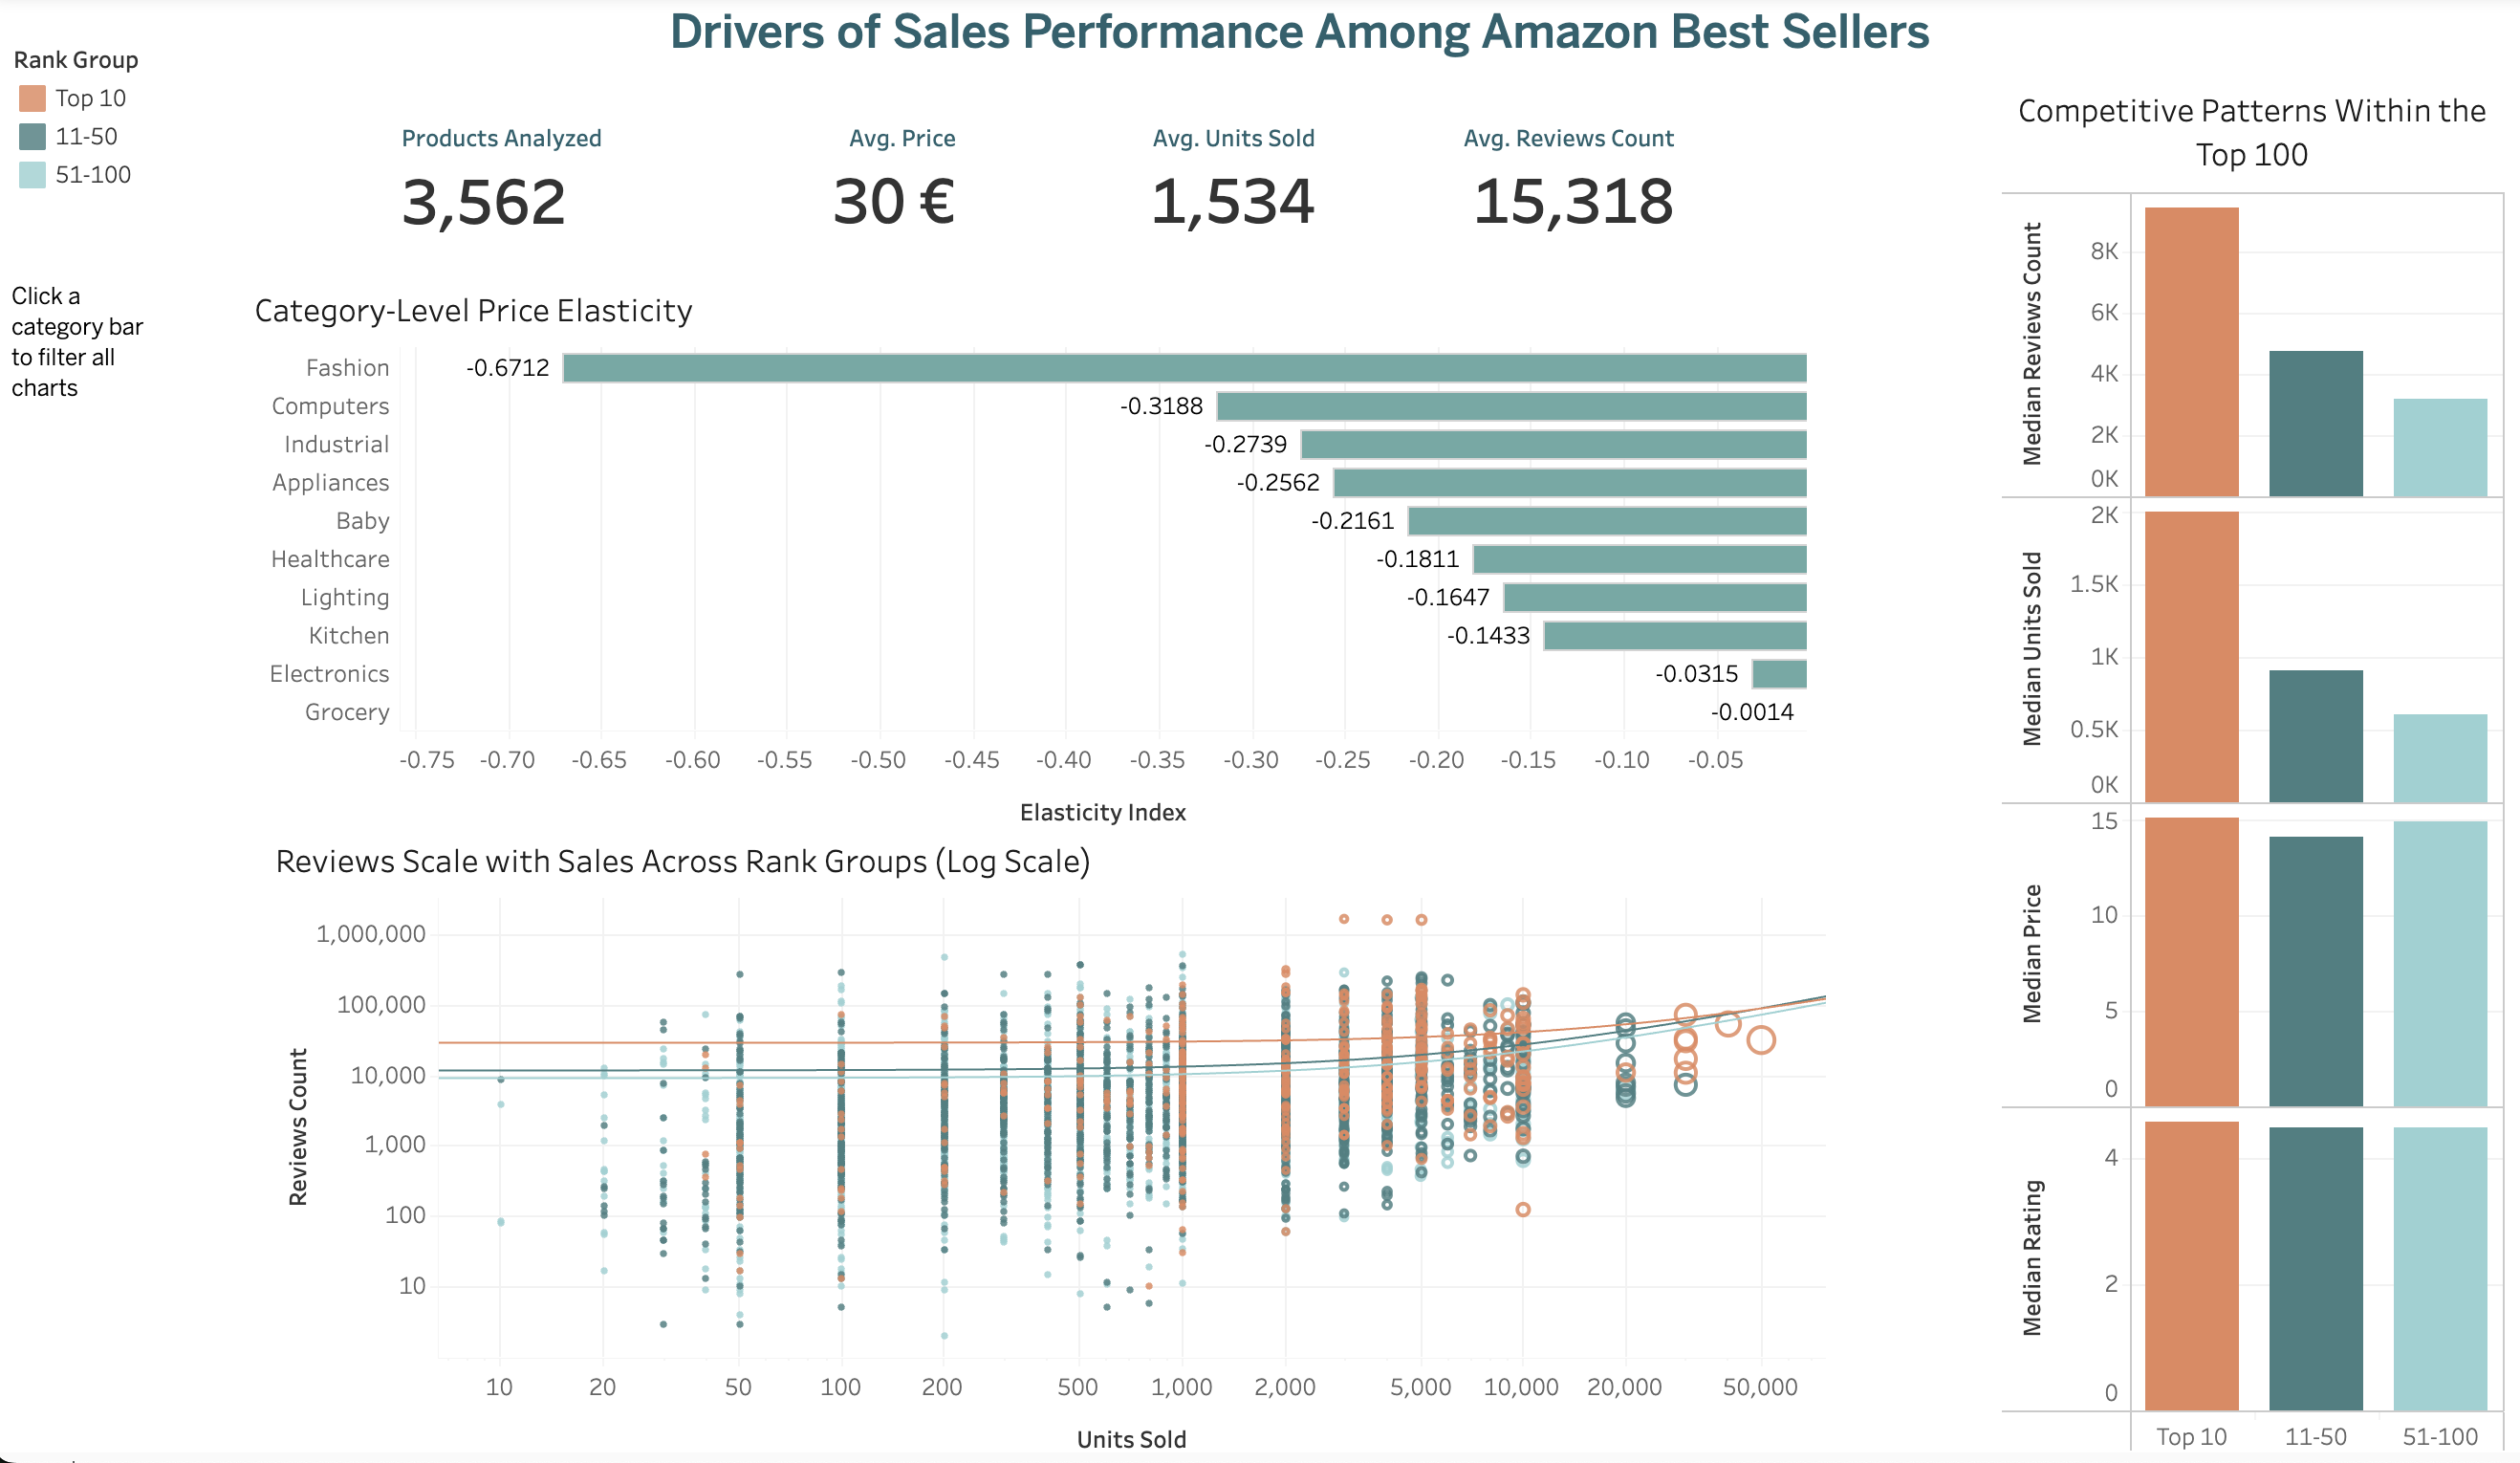

What the dashboard file says about the page in this screenshot:
{"tool":"tableau","page":{"name":"Dashboard 1","canvas":[1366,768],"ordinal":0},"visuals":[{"type":"title","box":[8,8,1350,37]},{"type":"legend","title":"Reviews Scale with Sales Across Rank Groups (Log Scale)","param":"[federated.1701tsy1jhsk3z1gz4ds00sgnimz].[none:rank_group:nk]","box":[10,32,135,81]},{"type":"text","box":[509,40,266,21]},{"type":"worksheet","title":"Rank Group Comparison (Top 100 Products)","mark":"Automatic","rows":["reviews_count","units_sold","price","rating"],"cols":["rank_group"],"box":[1050,49,263,721]},{"type":"worksheet","title":"KPIs","mark":"Text","rows":["Calculation_5126655154069507"],"box":[207,71,696,85]},{"type":"worksheet","title":"Category-Level Price Elasticity","mark":"Bar","rows":["Category"],"cols":["Value"],"box":[132,153,816,296]}]}

Visuals, with their boxes on the page's 1366x768 design canvas (x1, y1, x2, y2). These are canvas units, not pixel positions in the 2520x1463 screenshot, which may show the page scaled, cropped or inside an application window:
title: [8, 8, 1358, 45]
"Reviews Scale with Sales Across Rank Groups (Log Scale)" legend: [10, 32, 145, 113]
text: [509, 40, 775, 61]
"Rank Group Comparison (Top 100 Products)" worksheet: [1050, 49, 1313, 770]
"KPIs" worksheet (Text marks): [207, 71, 903, 156]
"Category-Level Price Elasticity" worksheet (Bar marks): [132, 153, 948, 449]
